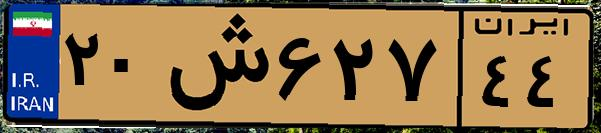0: (110, 28, 158, 98)
2: (330, 28, 385, 110), (57, 26, 110, 100)
4: (475, 38, 525, 113), (525, 38, 570, 115)
6: (270, 28, 330, 110)
7: (385, 28, 445, 110)
ش: (158, 12, 270, 120)
